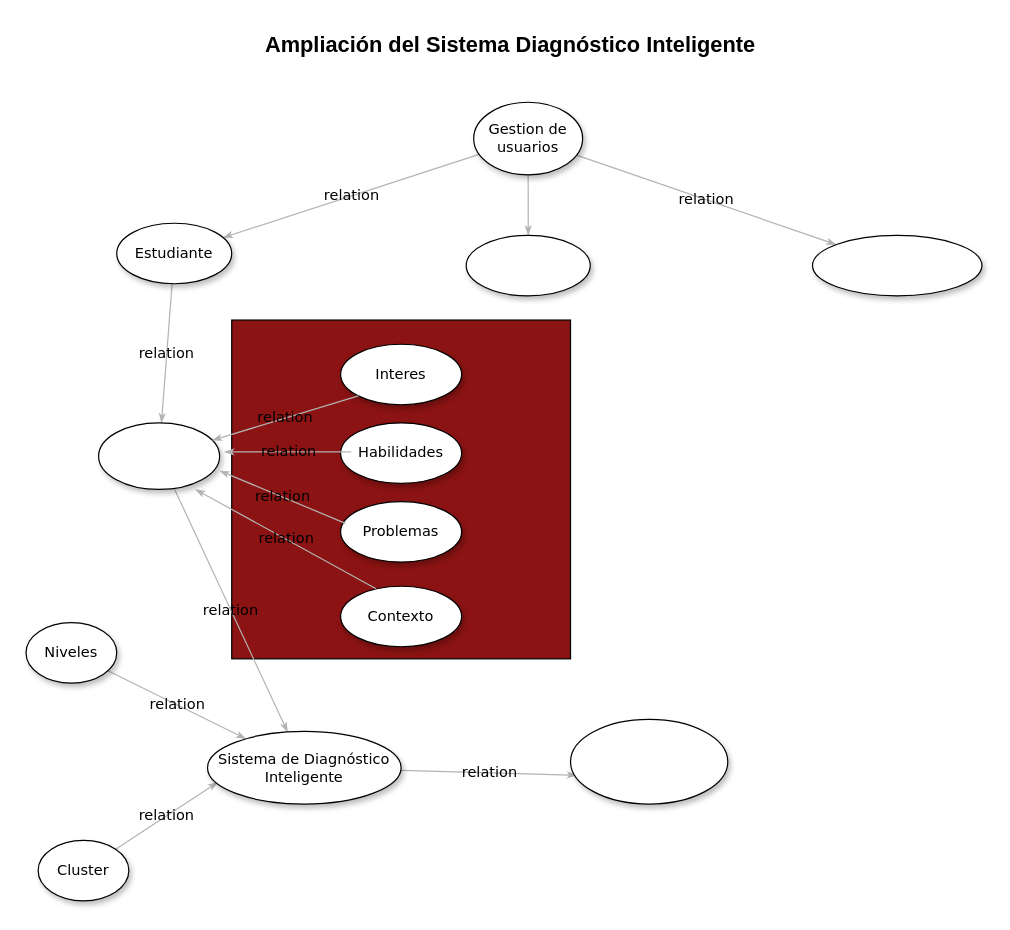
Some shapes in this 1010 by 930 pixel diagram are drawn without their labels. The shapes that lost their labels are listed below. From the top down, each one's centre as x and y in pixels, then its label:
the point at 528,266: Educador
the point at 897,266: Administrador
the point at 160,457: Recoleccion de datos
the point at 649,763: Ruta de aprendizaje personalizada
